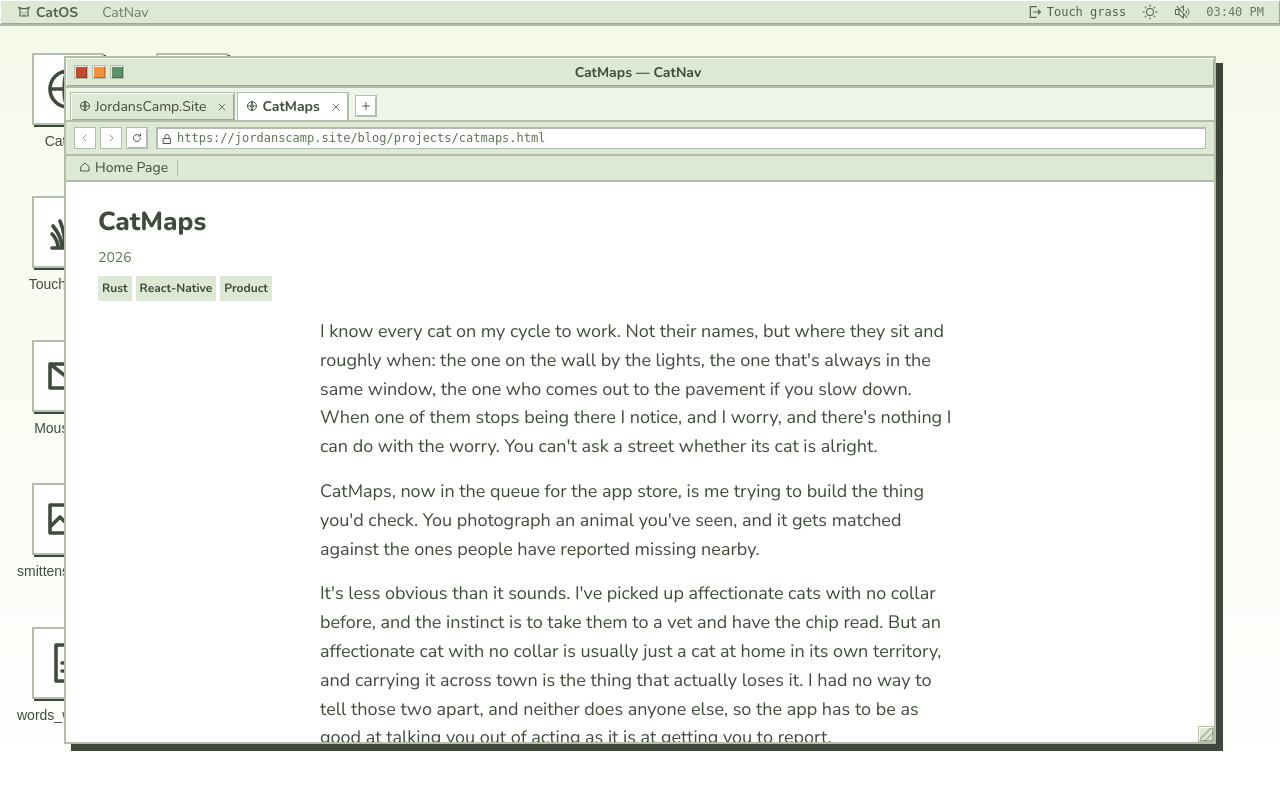
LaptopScreenOverlay (CatOS) › the browser window › closing the whole window navigates back to the bare blog route
The width and height of the screenshot is (1280, 800).
Click the button named "Close" at (81, 72), box [74,65,88,79]
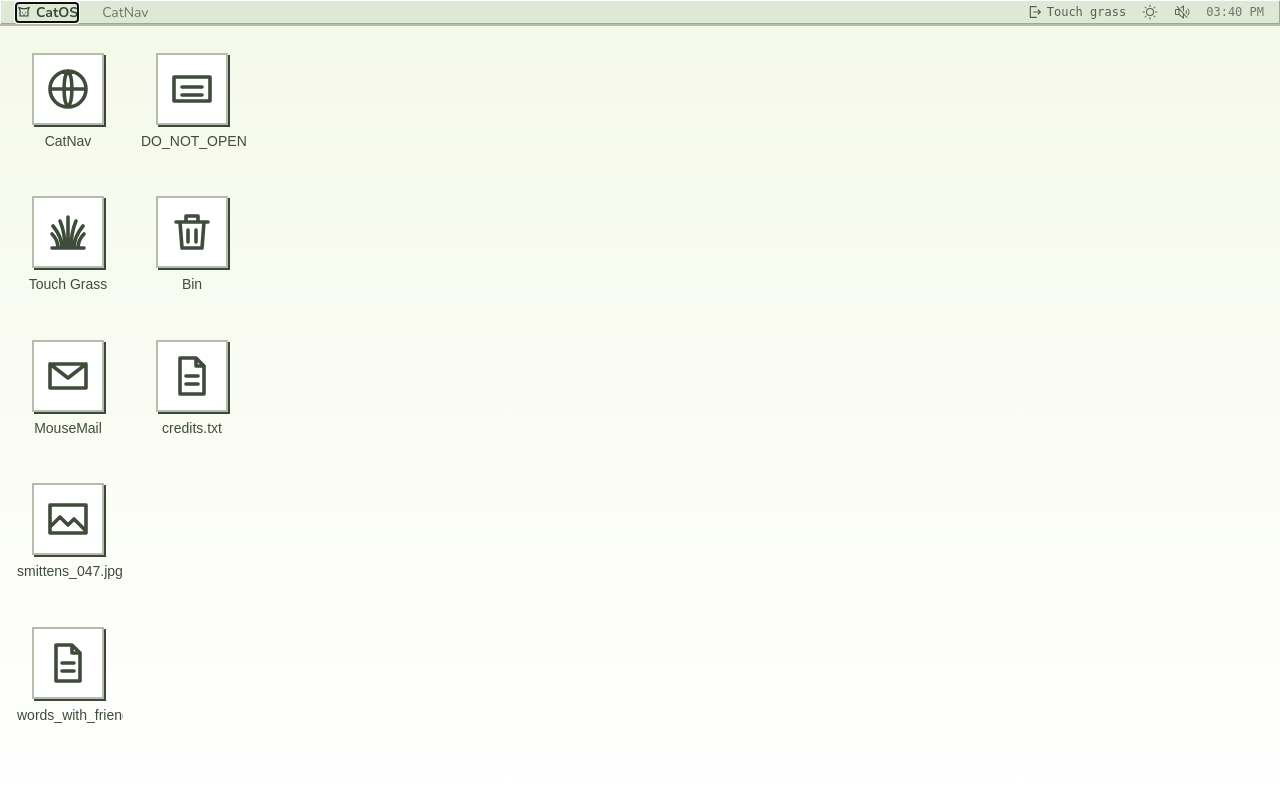
Now the text with test id "path" reads "/blog", box [0,0,37,22]
